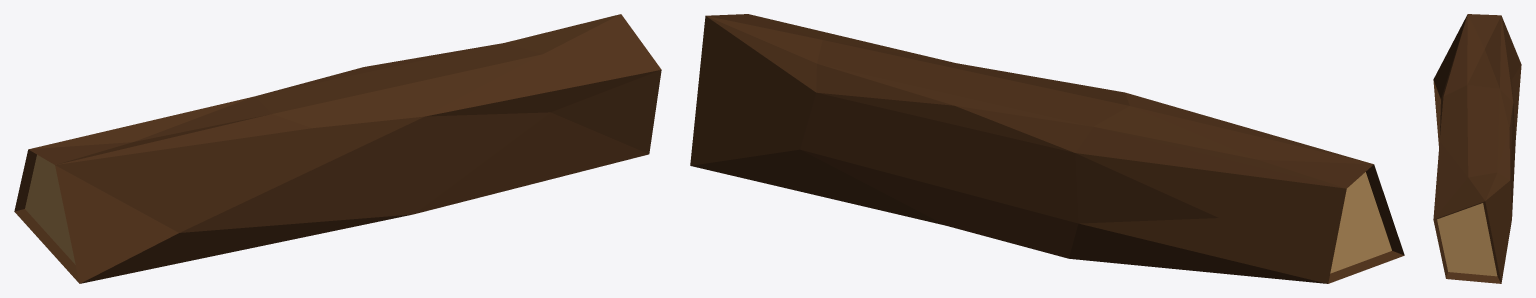
File: LogLowPoly.fbx
The picture shows the model from 3 angles, left to right: view 1: azimuth 30°, elevation 25°; view 2: azimuth 150°, elevation 25°; view 3: azimuth 270°, elevation 25°; orthographic projection. The views are drawn at different scales.
Visible parts, largest first — view 1: Cube; view 2: Cube; view 3: Cube.
Part boxes in pixels (x1=…): Cube: x1=14, y1=14, x2=661, y2=283; Cube: x1=690, y1=14, x2=1404, y2=283; Cube: x1=1433, y1=14, x2=1521, y2=283.
Bounding box in the file's own units: 350 × 71.56 × 69.42.
